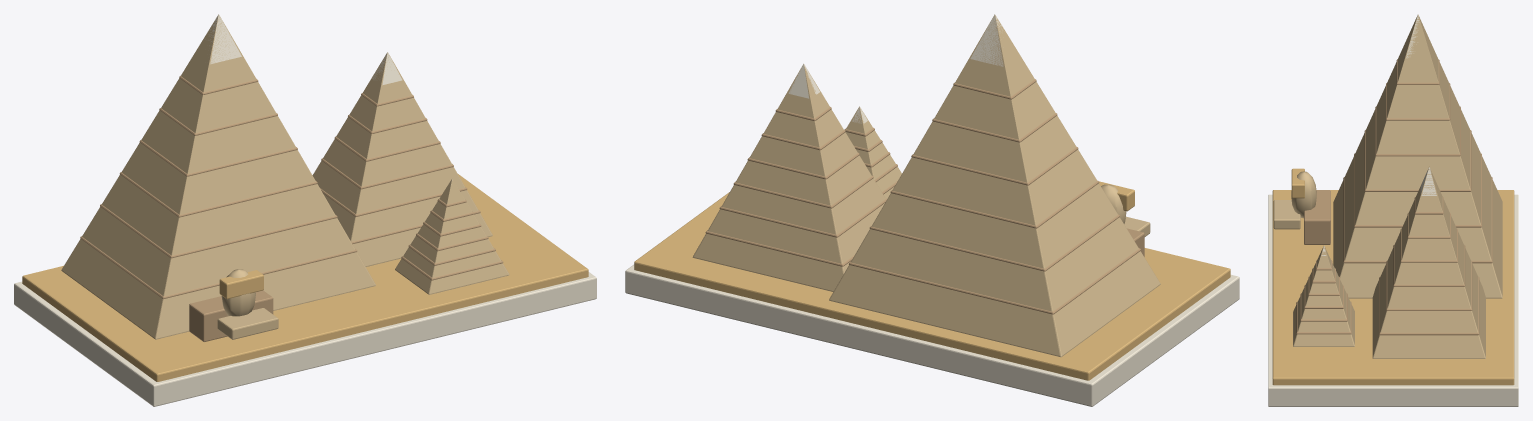
Rendered from pyramids-of-giza.glb.
The picture shows the model from 3 angles, left to right: view 1: azimuth 30°, elevation 25°; view 2: azimuth 150°, elevation 25°; view 3: azimuth 270°, elevation 25°; orthographic projection. The views are drawn at different scales.
Parts seen in each view (by area): view 1: Pyramids of Giza; view 2: Pyramids of Giza; view 3: Pyramids of Giza.
Boxes of the visible parts, x1=… form: Pyramids of Giza: x1=14, y1=14, x2=596, y2=406; Pyramids of Giza: x1=625, y1=14, x2=1239, y2=406; Pyramids of Giza: x1=1268, y1=14, x2=1518, y2=406.
Bounding box in the file's own units: 1.47 × 0.94 × 0.8064.
